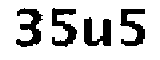3: (13, 2, 44, 51)
5: (46, 6, 83, 53), (118, 6, 150, 49)
u: (84, 12, 116, 50)
